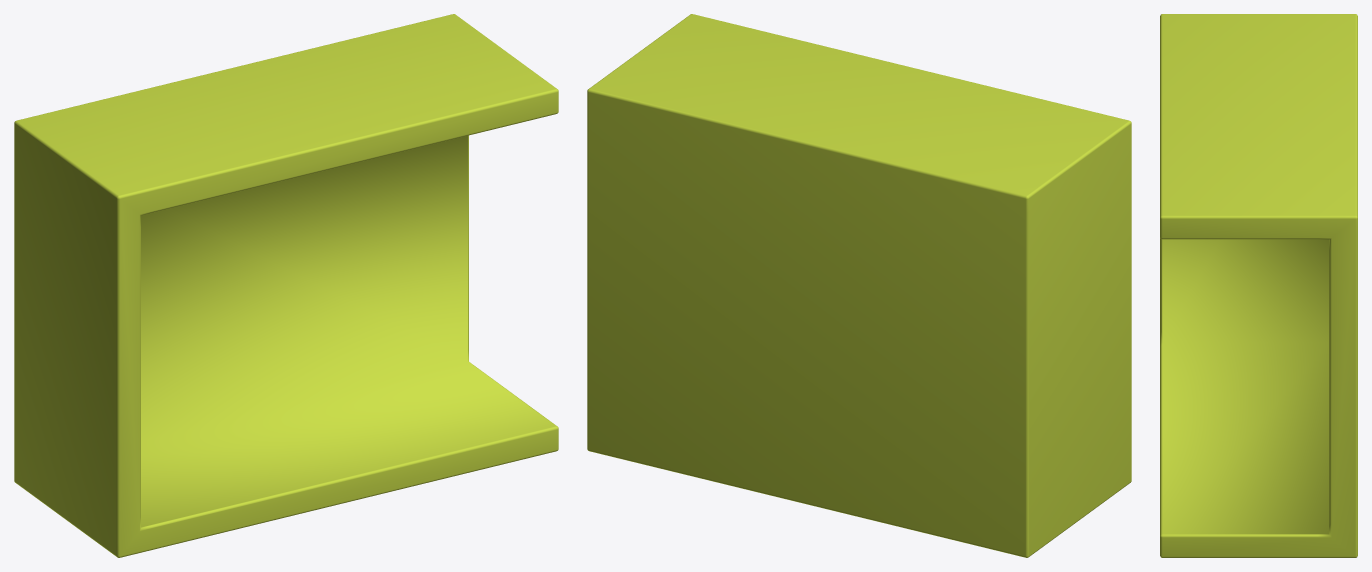
The model's file is drawer_bot.obj.
3 views of the same model, side by side, from view 1: azimuth 30°, elevation 25°; view 2: azimuth 150°, elevation 25°; view 3: azimuth 270°, elevation 25° (orthographic). The views are drawn at different scales.
Bounding box in the file's own units: 0.185 × 0.145 × 0.076.
Materials: 1 (1 with a texture image).
